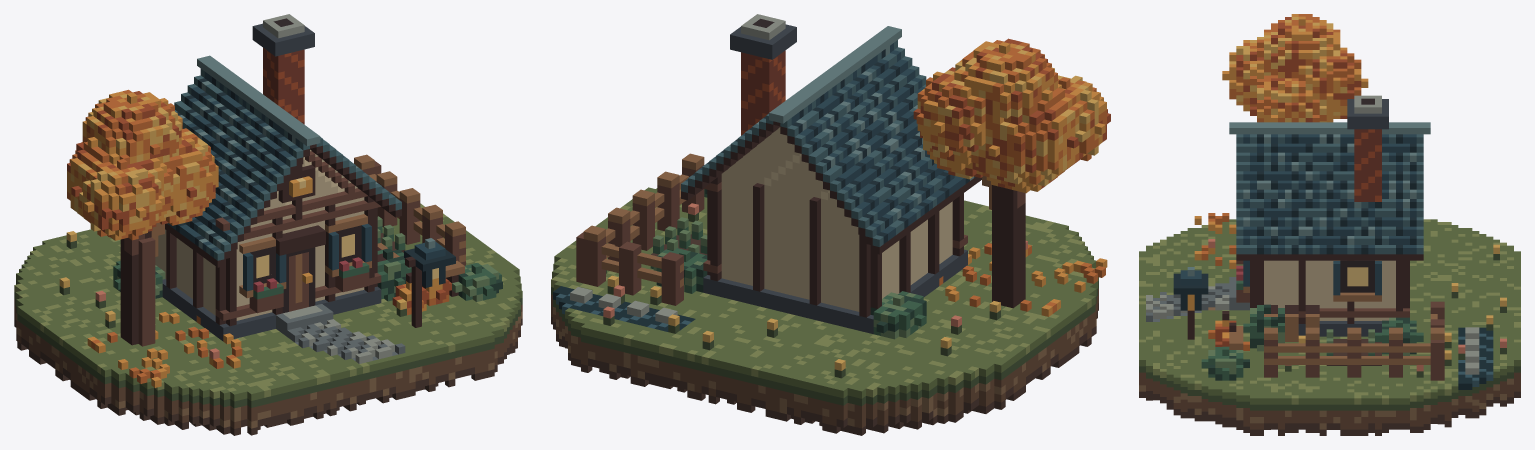
File: autumn-workshop.glb
3 renders of one model, left to right at view 1: azimuth 30°, elevation 25°; view 2: azimuth 150°, elevation 25°; view 3: azimuth 270°, elevation 25°, orthographic. The views are drawn at different scales.
Parts seen in each view (by area): view 1: Autumn Workshop; view 2: Autumn Workshop; view 3: Autumn Workshop.
Boxes of the visible parts, x1,y1,x2,y2 form: Autumn Workshop: (14,14,522,435); Autumn Workshop: (551,14,1110,435); Autumn Workshop: (1139,14,1520,435).
Bounding box in the file's own units: 65 × 41 × 55.
